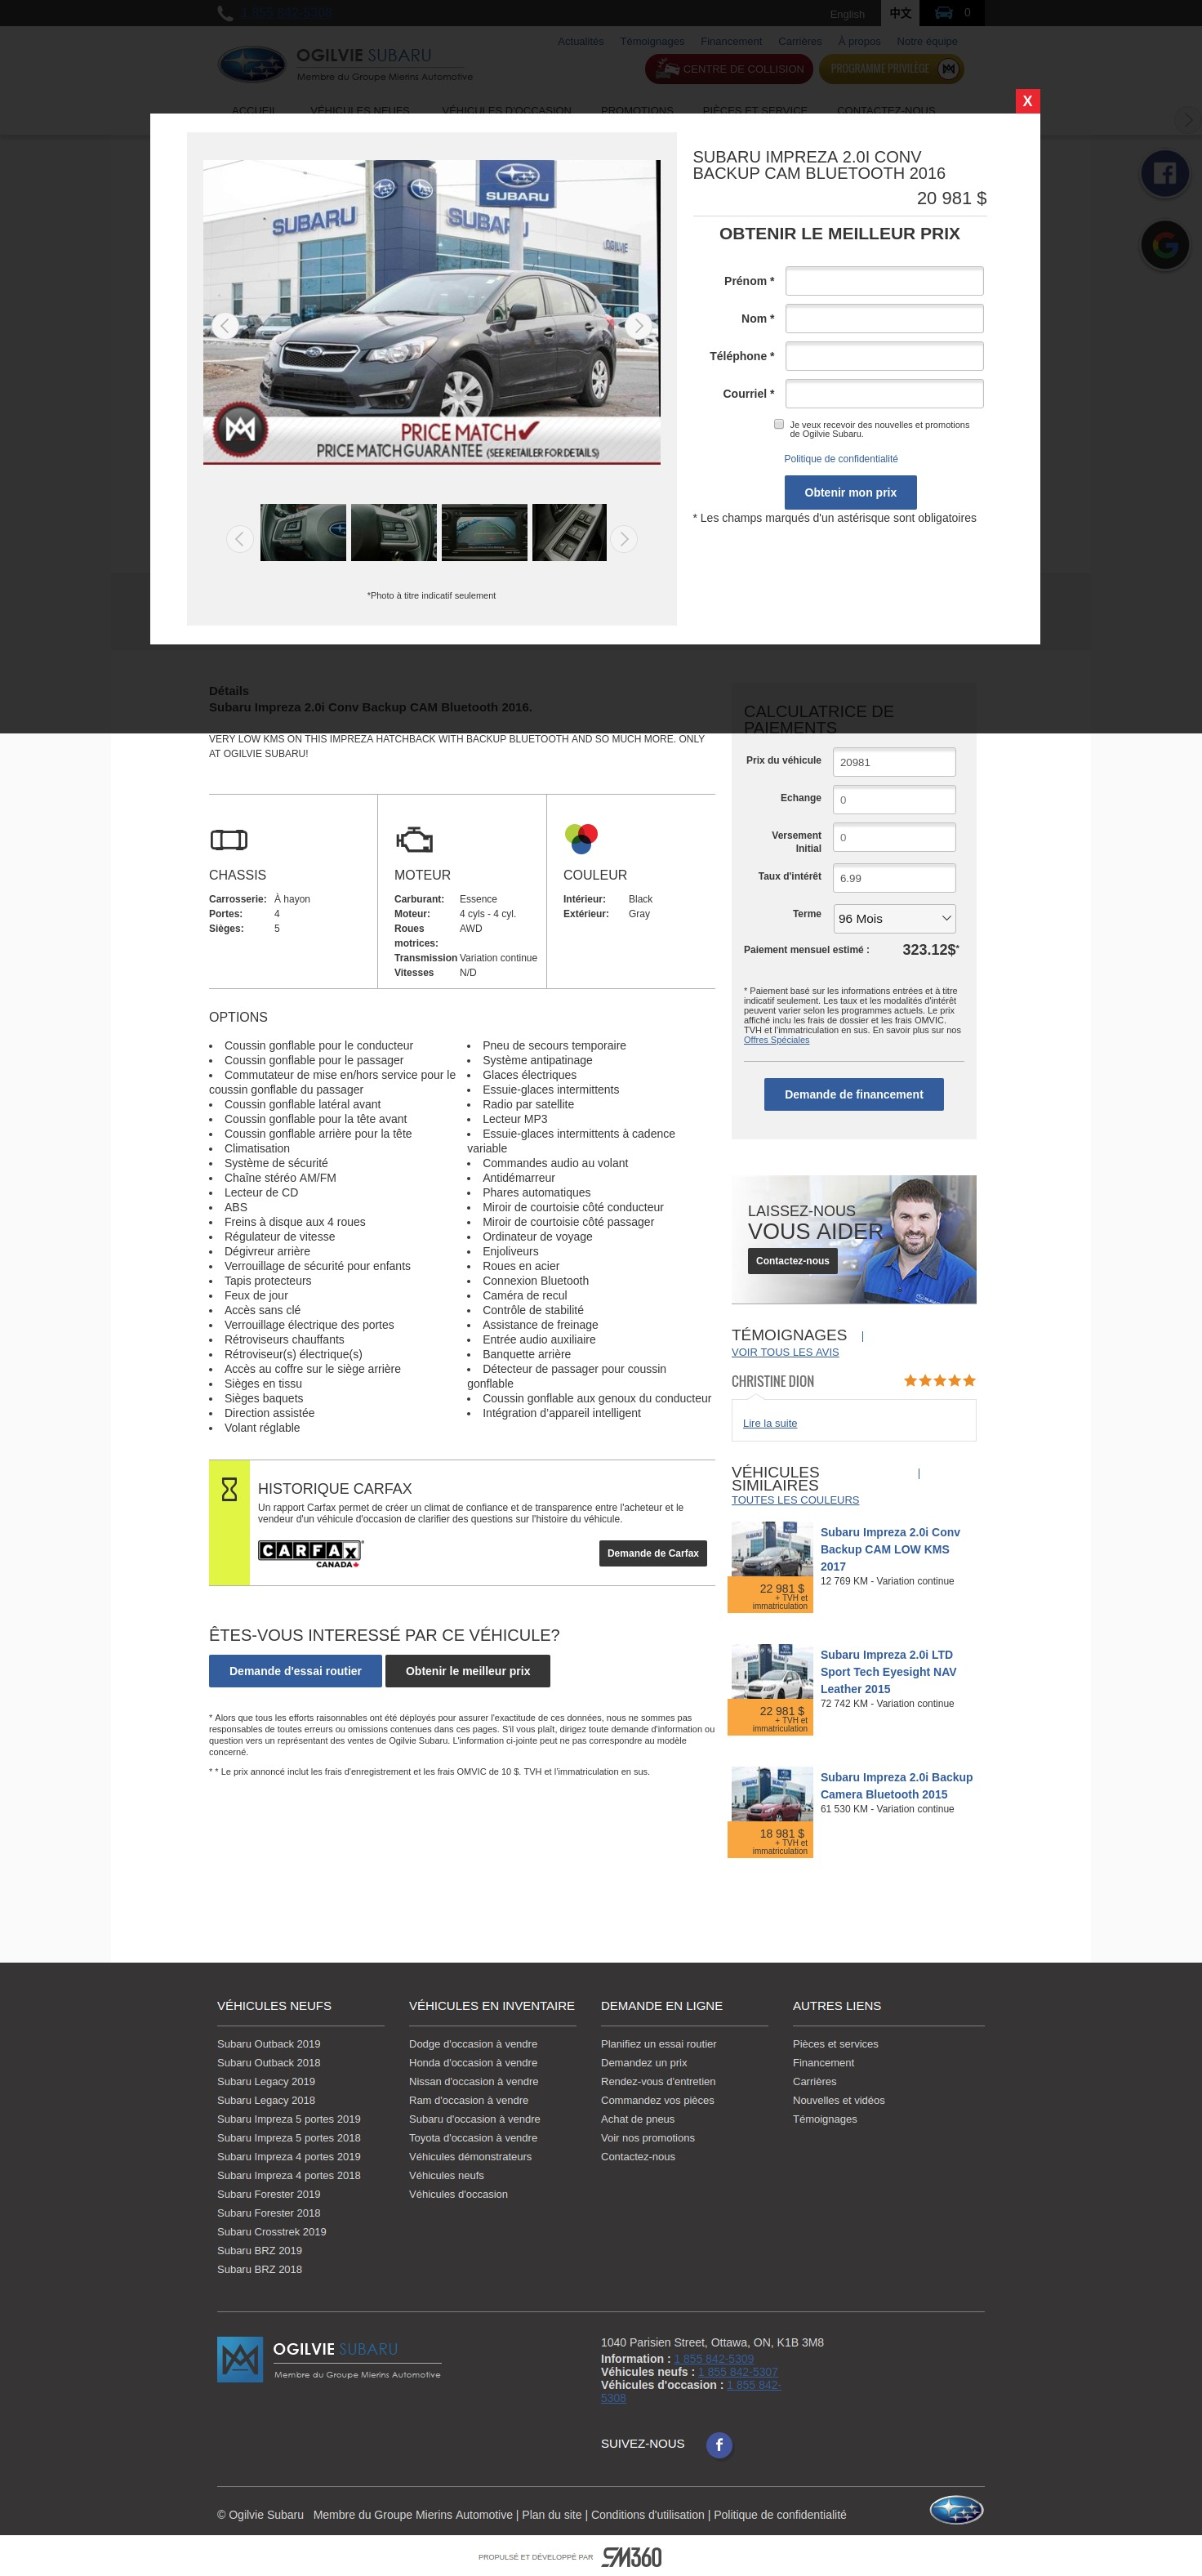car: (617, 532, 631, 549)
